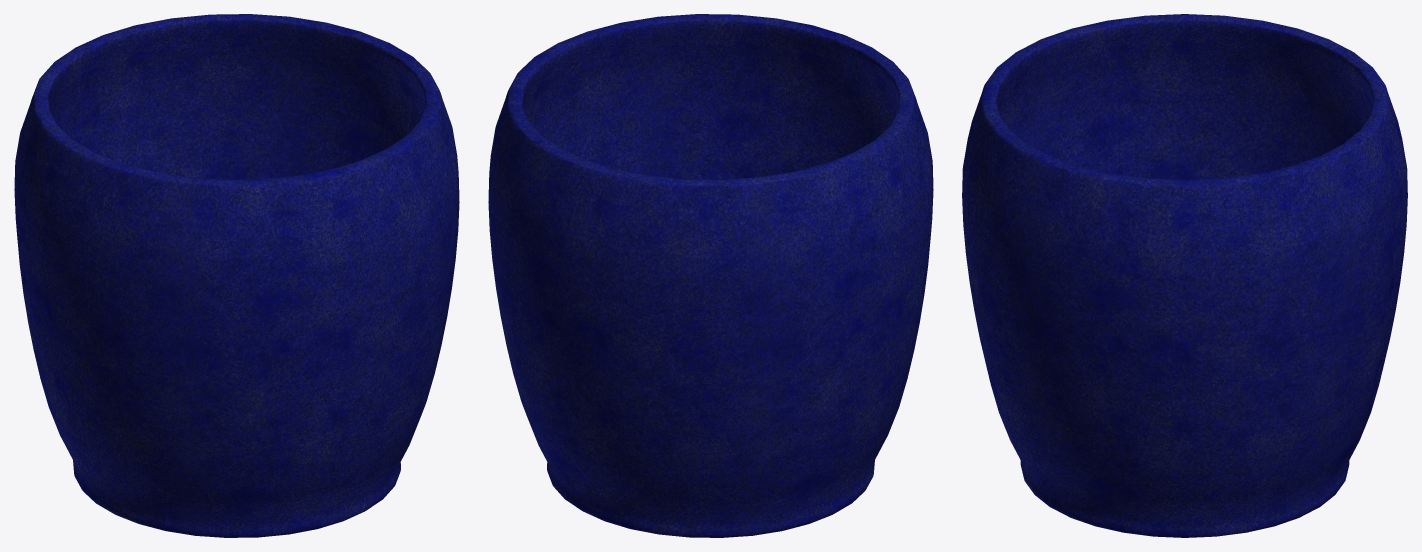
The model's file is taza3.glb.
The picture shows the model from 3 angles, left to right: view 1: azimuth 30°, elevation 25°; view 2: azimuth 150°, elevation 25°; view 3: azimuth 270°, elevation 25°; orthographic projection.
Parts seen in each view (by area): view 1: taza1.002; view 2: taza1.002; view 3: taza1.002.
Boxes of the visible parts, x1=… form: taza1.002: x1=14, y1=14, x2=459, y2=537; taza1.002: x1=488, y1=14, x2=933, y2=537; taza1.002: x1=962, y1=14, x2=1407, y2=537.
Size of the model in its own units: 0.1098 by 0.1015 by 0.1098.
1 material, 1 textured.
